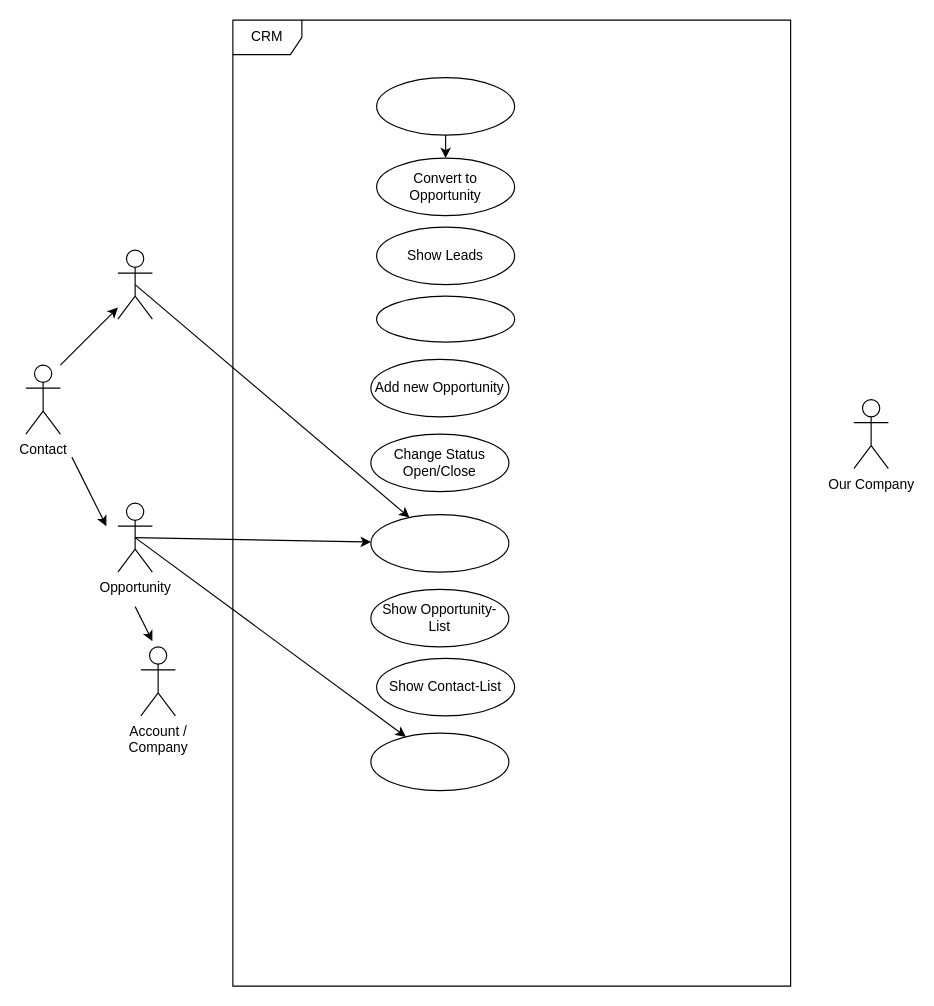
Some shapes in this 934 by 1006 pixel diagram are drawn without their labels. The centre of each missing label's shape, as x and y in pixels:
"Add new Lead" belongs at (445,105).
"Lead" belongs at (134,284).
"Lookup Lead id" belongs at (445,318).
"Order" belongs at (439,761).
"Show Products" belongs at (439,542).
